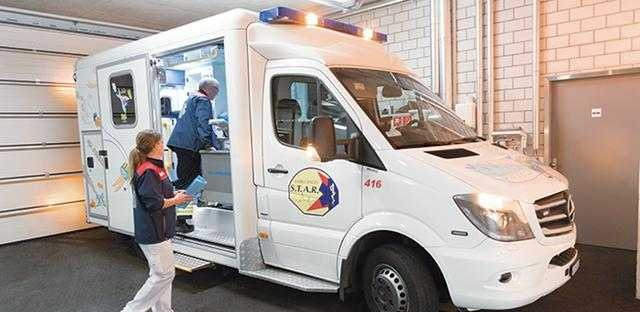Ambulance: (48, 14, 615, 312)
